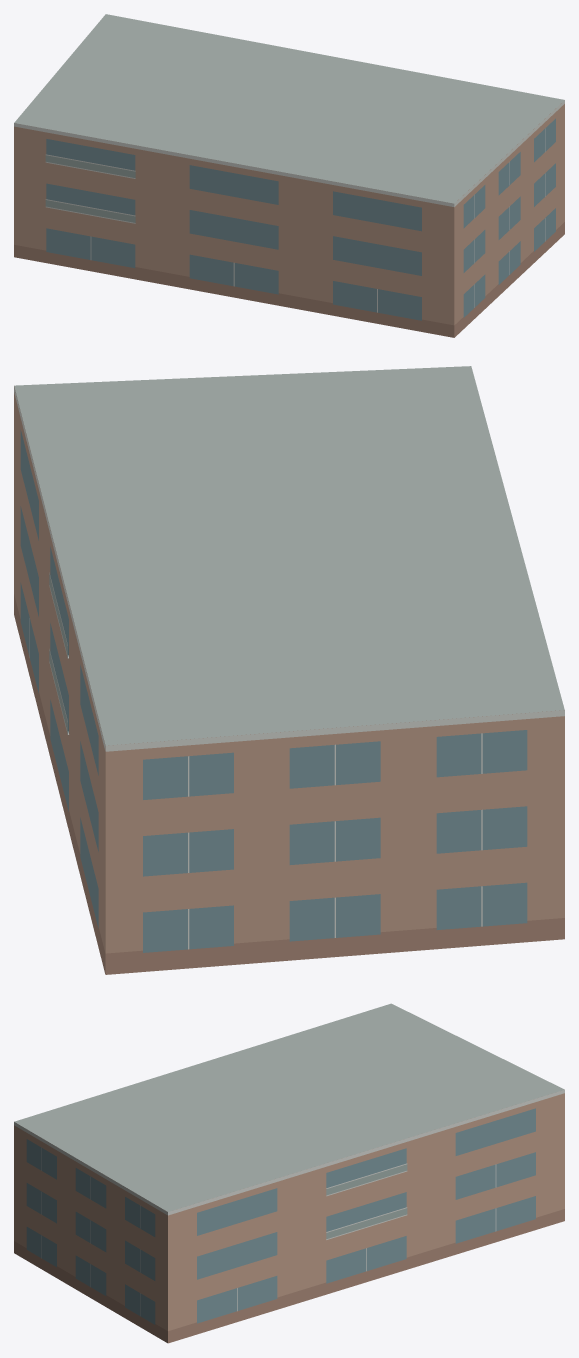
The model's file is survey-upis-32590700.glb.
3 renders of one model, top to bottom at view 1: azimuth 30°, elevation 25°; view 2: azimuth 150°, elevation 25°; view 3: azimuth 270°, elevation 25°, orthographic. The views are drawn at different scales.
Visible parts, largest first — view 1: survey-upis-32590700.tmp; view 2: survey-upis-32590700.tmp; view 3: survey-upis-32590700.tmp.
Part boxes in pixels (x1,y1,x2,y2): survey-upis-32590700.tmp: [14, 14, 564, 337]; survey-upis-32590700.tmp: [14, 366, 564, 974]; survey-upis-32590700.tmp: [14, 1003, 564, 1343].
Bounding box in the file's own units: 31.16 × 9.15 × 34.77.
